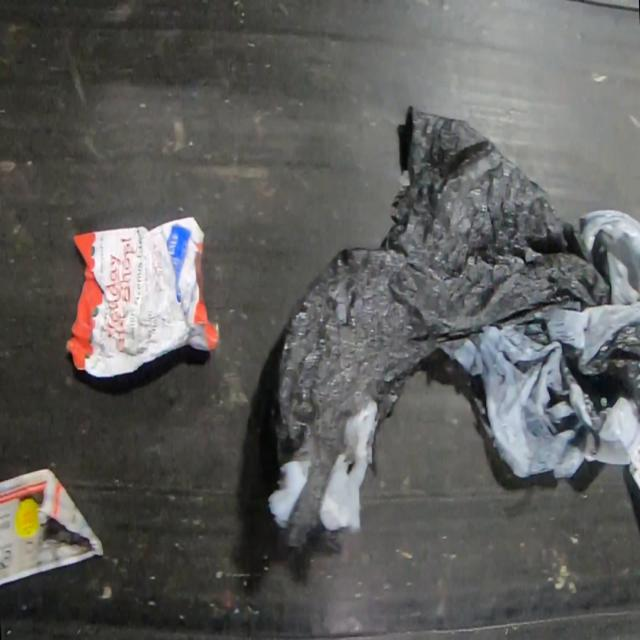soft_plastic: (270, 104, 639, 549)
